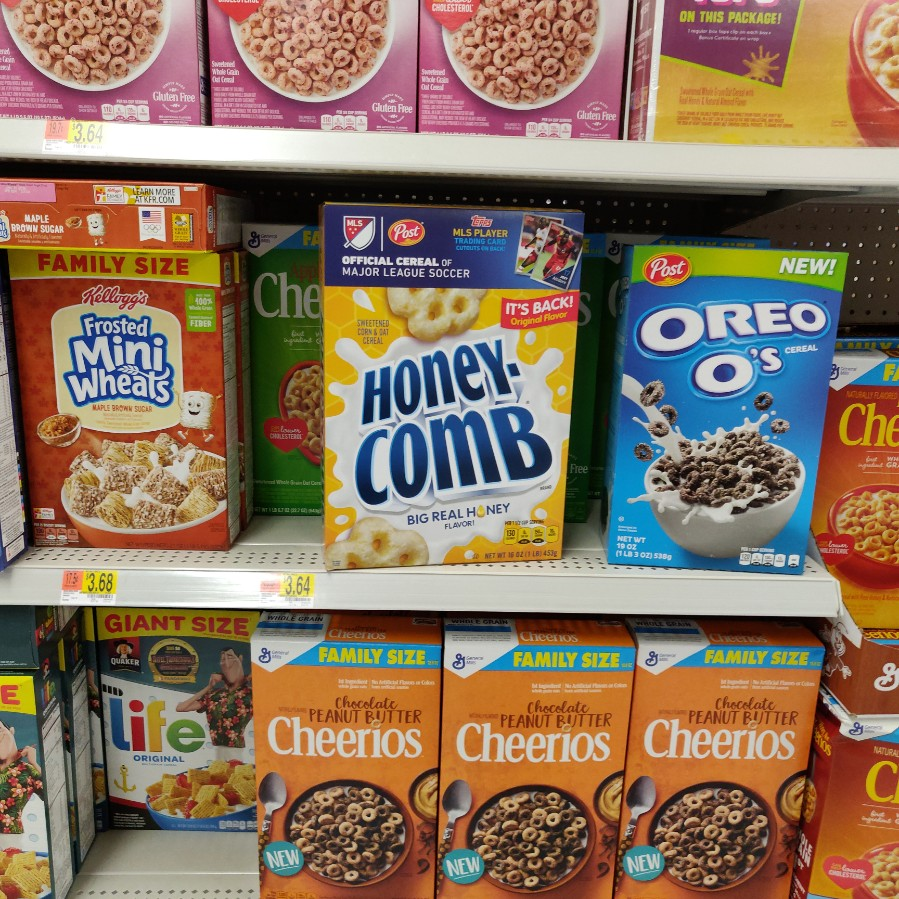Honey Comb- 009288857: (319, 201, 566, 557)
Oreo-563424384: (628, 244, 814, 575)
